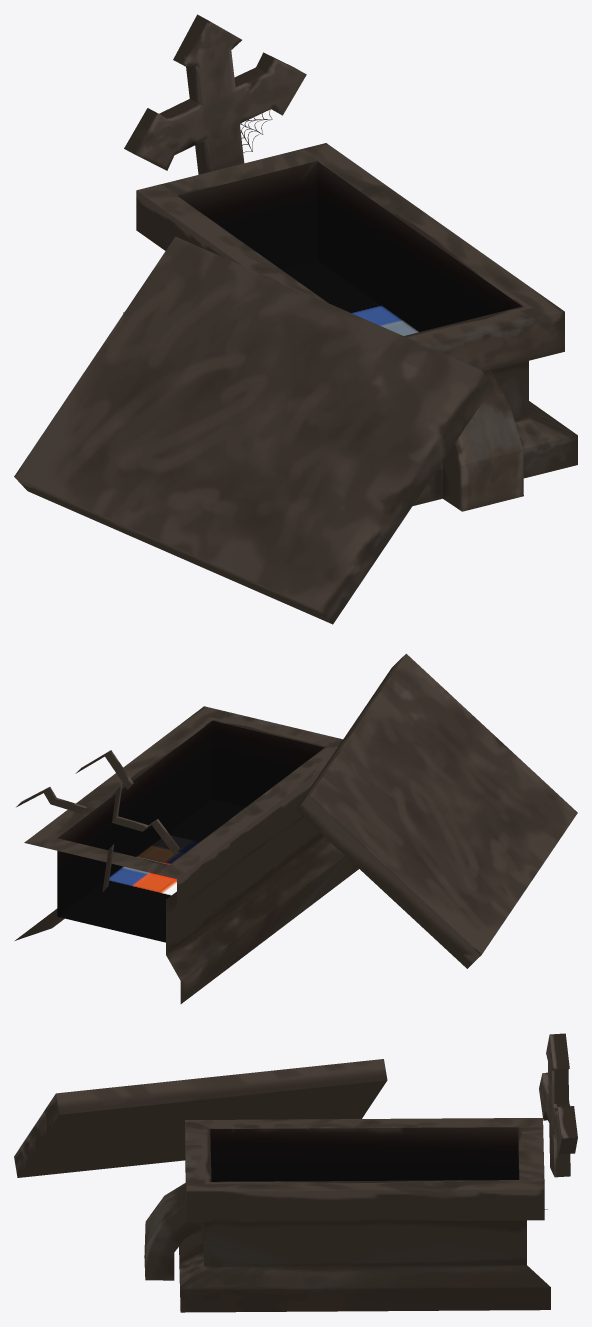
The model's file is model_chunk_2.glb.
3 renders of one model, top to bottom at view 1: azimuth 30°, elevation 25°; view 2: azimuth 150°, elevation 25°; view 3: azimuth 270°, elevation 25°, orthographic. The views are drawn at different scales.
Parts seen in each view (by area): view 1: Village_Meshes020; view 2: Village_Meshes020; view 3: Village_Meshes020.
Part boxes in pixels (left/top/right/bottom): Village_Meshes020: left=14, top=14, right=577, bottom=624; Village_Meshes020: left=15, top=653, right=577, bottom=1003; Village_Meshes020: left=14, top=1033, right=577, bottom=1312.
Size of the model in its own units: 3.51 by 2.18 by 4.85.
1 material, 1 textured.
